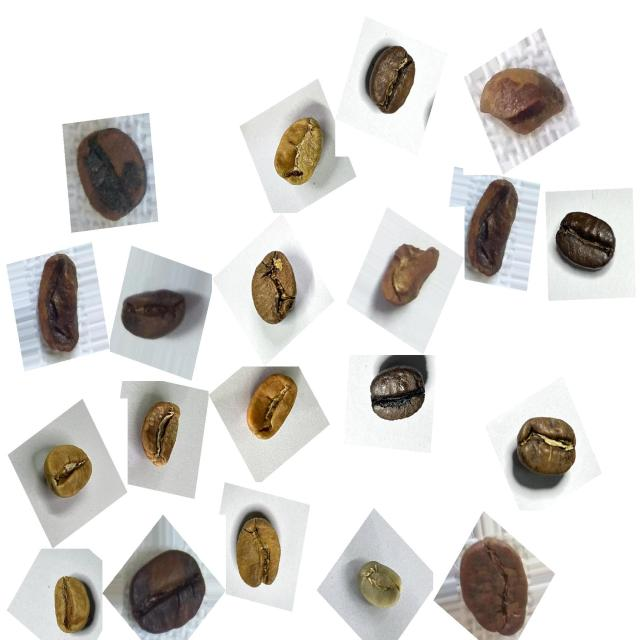bad: (448, 524, 540, 640), (68, 114, 159, 229), (123, 535, 216, 638), (471, 52, 568, 147), (458, 171, 533, 288), (24, 244, 94, 363), (115, 273, 195, 355), (374, 236, 448, 321)
dark: (549, 200, 627, 290), (358, 358, 432, 438)
green: (349, 553, 412, 624)
light: (226, 504, 296, 602), (260, 107, 332, 200), (236, 364, 308, 451), (31, 435, 102, 515), (128, 392, 192, 478), (41, 563, 102, 638)
medium: (502, 402, 587, 494), (238, 240, 311, 338), (357, 37, 428, 126)
